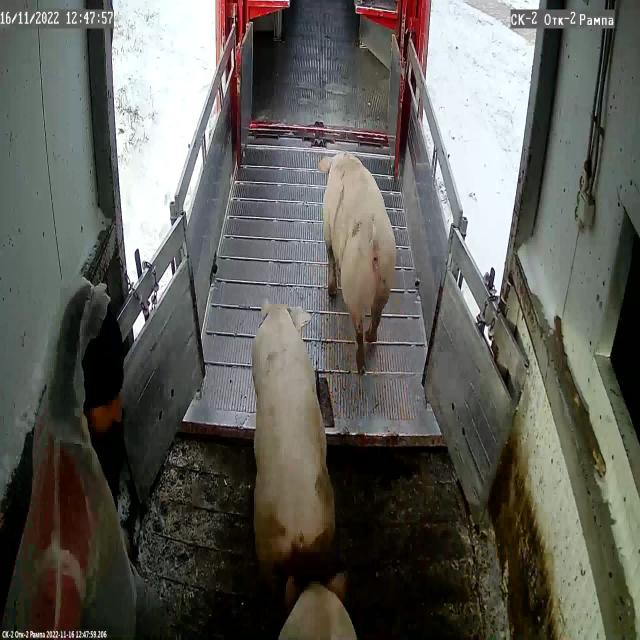pig: (256, 300, 335, 564), (324, 154, 396, 370), (277, 573, 357, 640)
